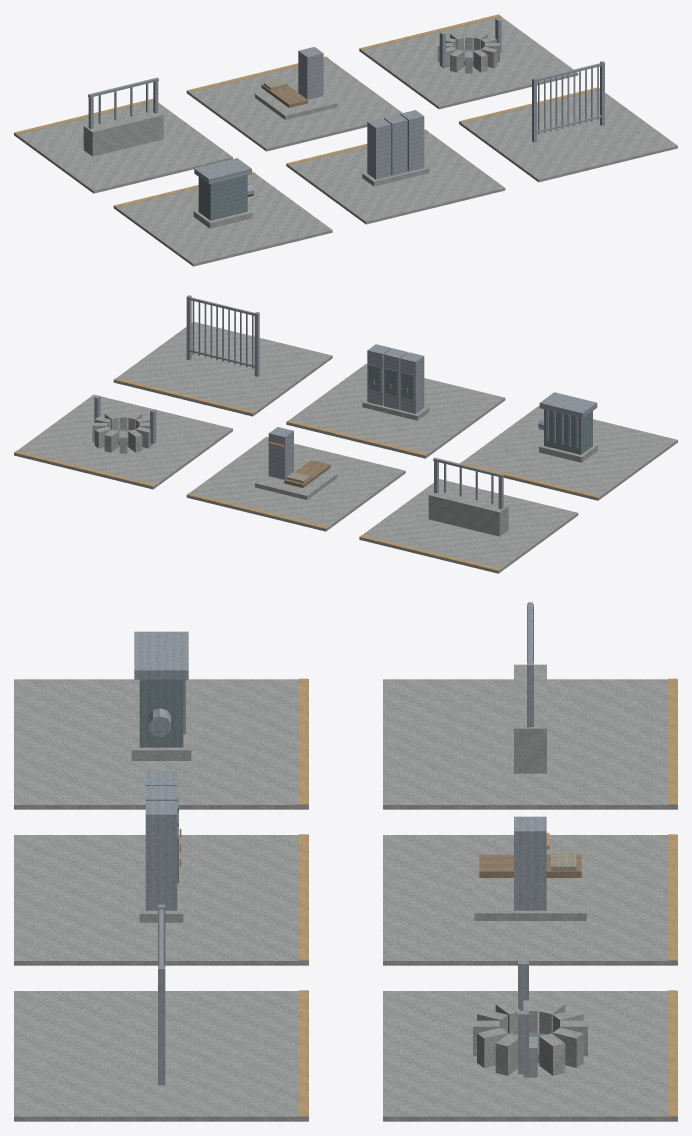
File: level_blockout_kit_wld_17_p03.glb
3 renders of one model, top to bottom at view 1: azimuth 30°, elevation 25°; view 2: azimuth 150°, elevation 25°; view 3: azimuth 270°, elevation 25°, orthographic. The views are drawn at different scales.
Visible parts, largest first — view 1: level_blockout_kit_wld_17_p03; view 2: level_blockout_kit_wld_17_p03; view 3: level_blockout_kit_wld_17_p03.
Part boxes in pixels (x1,y1,x2,y2): level_blockout_kit_wld_17_p03: (14, 14, 677, 266); level_blockout_kit_wld_17_p03: (14, 295, 677, 573); level_blockout_kit_wld_17_p03: (14, 602, 677, 1121).
Bounding box in the file's own units: 19.65 × 2.55 × 12.6.
6 materials, 6 textured.
